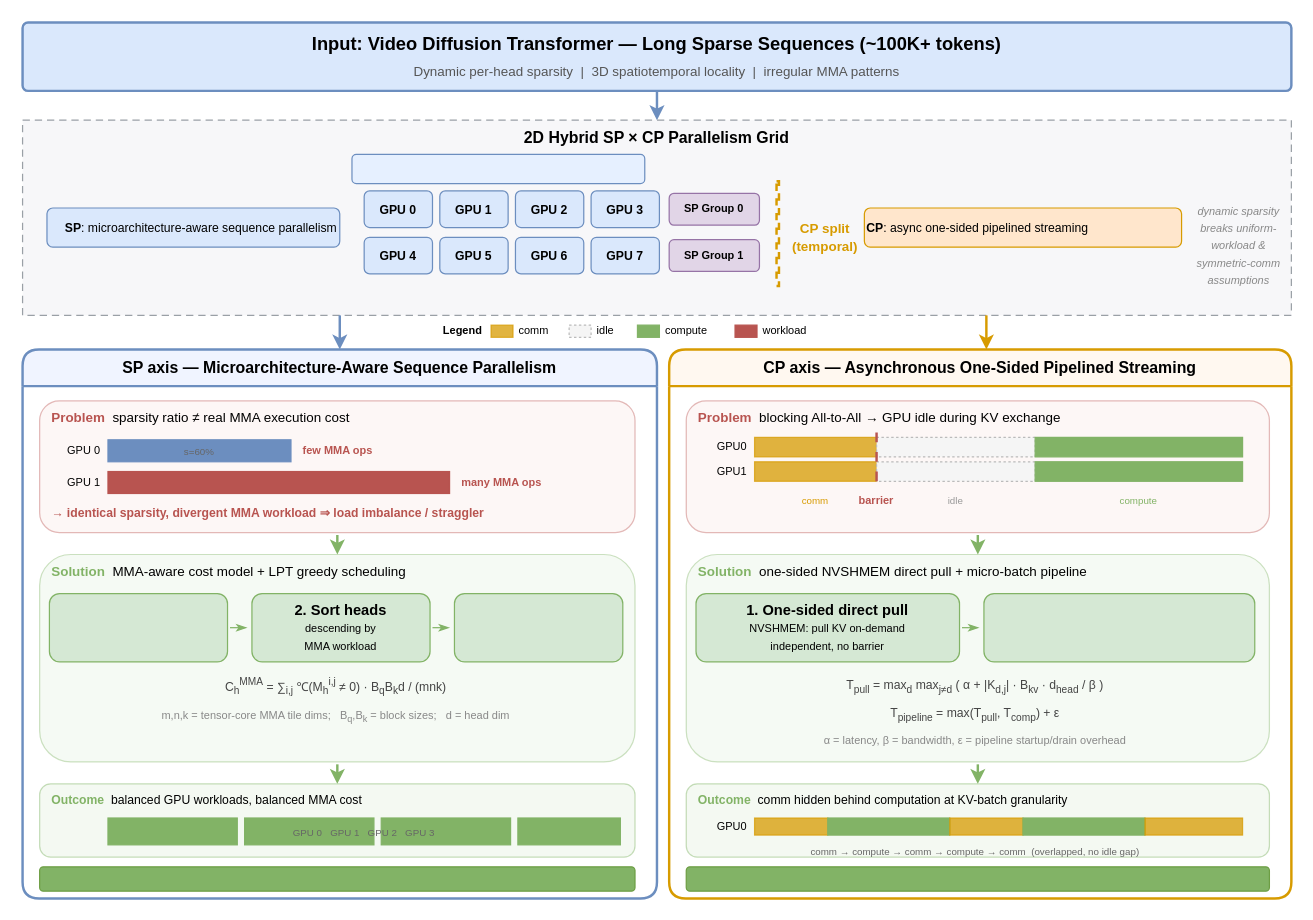
This 1313x920 diagram has some shape labels left out. Each missing label, with the box of its shape:
1. MMA cost model count active blocks → MMA ops / head: (48, 592, 228, 662)
2. Micro-batch pipeline double-buffer, KV arrival triggers partial attention: (983, 592, 1255, 662)
3. LPT greedy heaviest head → least-loaded GPU: (453, 592, 623, 662)
s=60% (same ratio): (107, 470, 450, 493)
SP: heads partition (spatial axis): (351, 153, 645, 184)
✓ balanced workloads | no straggler: (38, 866, 635, 891)
✓ comm-compute overlap | no idle wait: (685, 866, 1269, 891)
